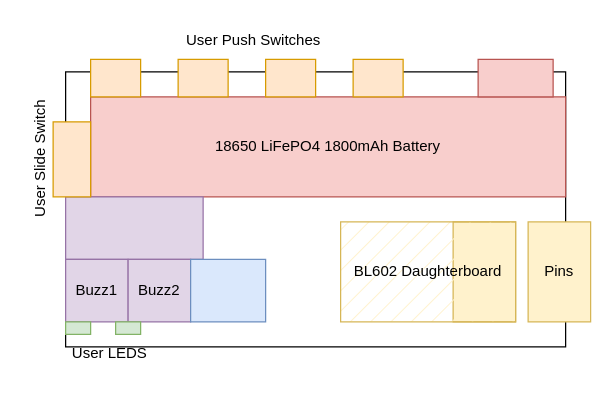
This 613x393 diagram has some shape labels left out. Each missing label, with the centre of its shape:
Audio Jack: the point at 133,227
Pressure: the point at 227,290
PWR_SW: the point at 515,77
